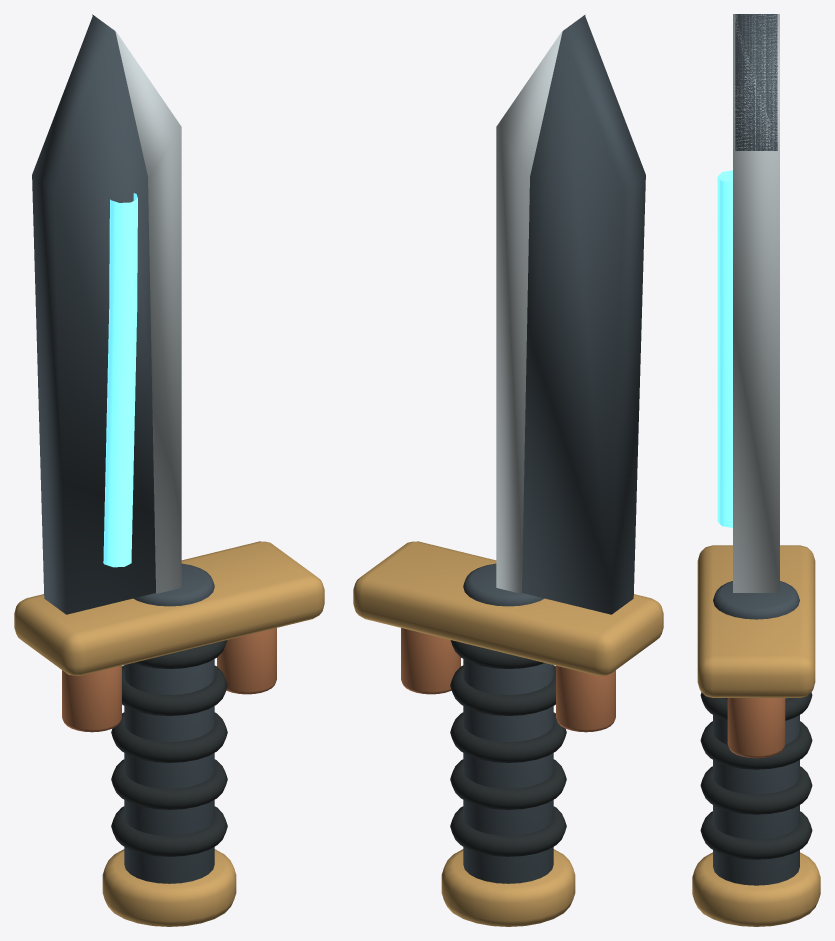
File: shock_blade.t3.glb
3 renders of one model, left to right at view 1: azimuth 30°, elevation 25°; view 2: azimuth 150°, elevation 25°; view 3: azimuth 270°, elevation 25°, orthographic. The views are drawn at different scales.
Visible parts, largest first — view 1: weapon_right__forged_bluelead_steel__protected, weapon_right__worn_warm_brass__protected, weapon_right__honed_steel_edge__protected, weapon_right__charcoal_rubber__protected, weapon_right__charged_coil__protected, weapon_right__burnished_copper__protected; view 2: weapon_right__forged_bluelead_steel__protected, weapon_right__worn_warm_brass__protected, weapon_right__honed_steel_edge__protected, weapon_right__charcoal_rubber__protected, weapon_right__burnished_copper__protected; view 3: weapon_right__honed_steel_edge__protected, weapon_right__worn_warm_brass__protected, weapon_right__forged_bluelead_steel__protected, weapon_right__charcoal_rubber__protected, weapon_right__charged_coil__protected, weapon_right__burnished_copper__protected.
Boxes of the visible parts, box(x1,y1,x2,y2) form: weapon_right__forged_bluelead_steel__protected: box(32, 15, 214, 883); weapon_right__worn_warm_brass__protected: box(14, 541, 324, 926); weapon_right__honed_steel_edge__protected: box(92, 14, 181, 593); weapon_right__charcoal_rubber__protected: box(111, 640, 227, 856); weapon_right__charged_coil__protected: box(103, 193, 137, 567); weapon_right__burnished_copper__protected: box(62, 628, 276, 732); weapon_right__forged_bluelead_steel__protected: box(463, 15, 645, 883); weapon_right__worn_warm_brass__protected: box(353, 541, 663, 926); weapon_right__honed_steel_edge__protected: box(496, 14, 585, 593); weapon_right__charcoal_rubber__protected: box(450, 640, 566, 856); weapon_right__burnished_copper__protected: box(401, 628, 615, 732); weapon_right__honed_steel_edge__protected: box(733, 14, 779, 592); weapon_right__worn_warm_brass__protected: box(692, 545, 820, 926); weapon_right__forged_bluelead_steel__protected: box(713, 14, 799, 885); weapon_right__charcoal_rubber__protected: box(700, 692, 812, 859); weapon_right__charged_coil__protected: box(717, 170, 732, 527); weapon_right__burnished_copper__protected: box(727, 698, 785, 758).
Bounding box in the file's own units: 0.32 × 1.05 × 0.142.
